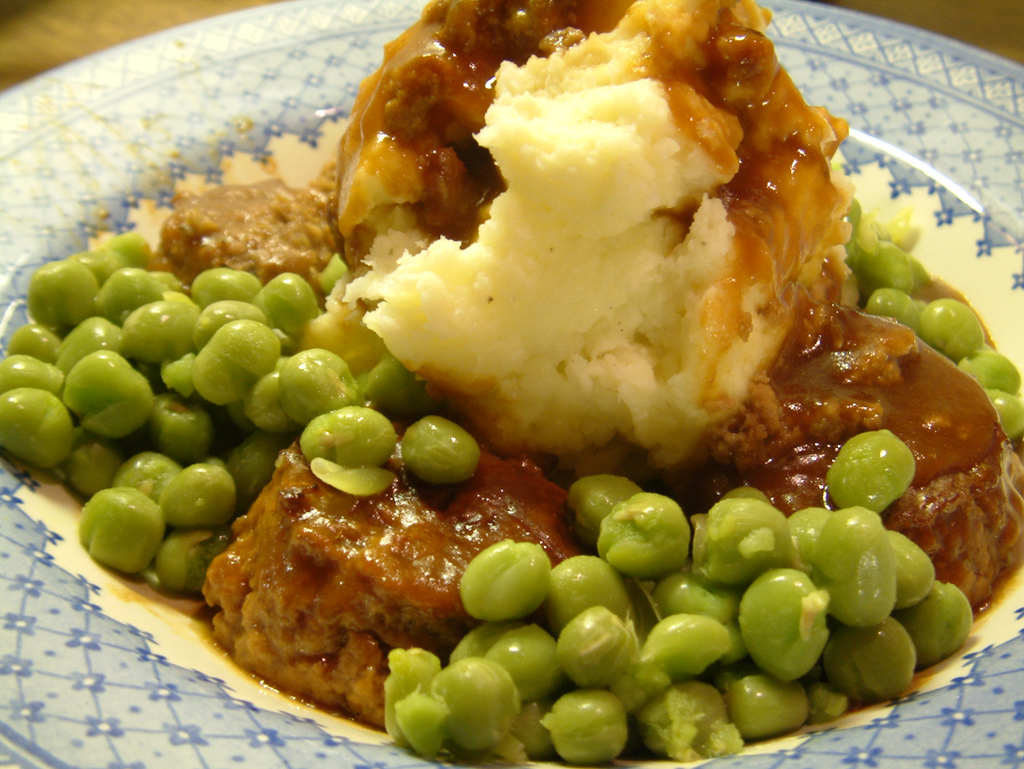boiled peas: (591, 517, 917, 748), (34, 286, 232, 555)
boiled potatoes: (447, 66, 691, 409)
meatballs: (293, 489, 417, 668)
